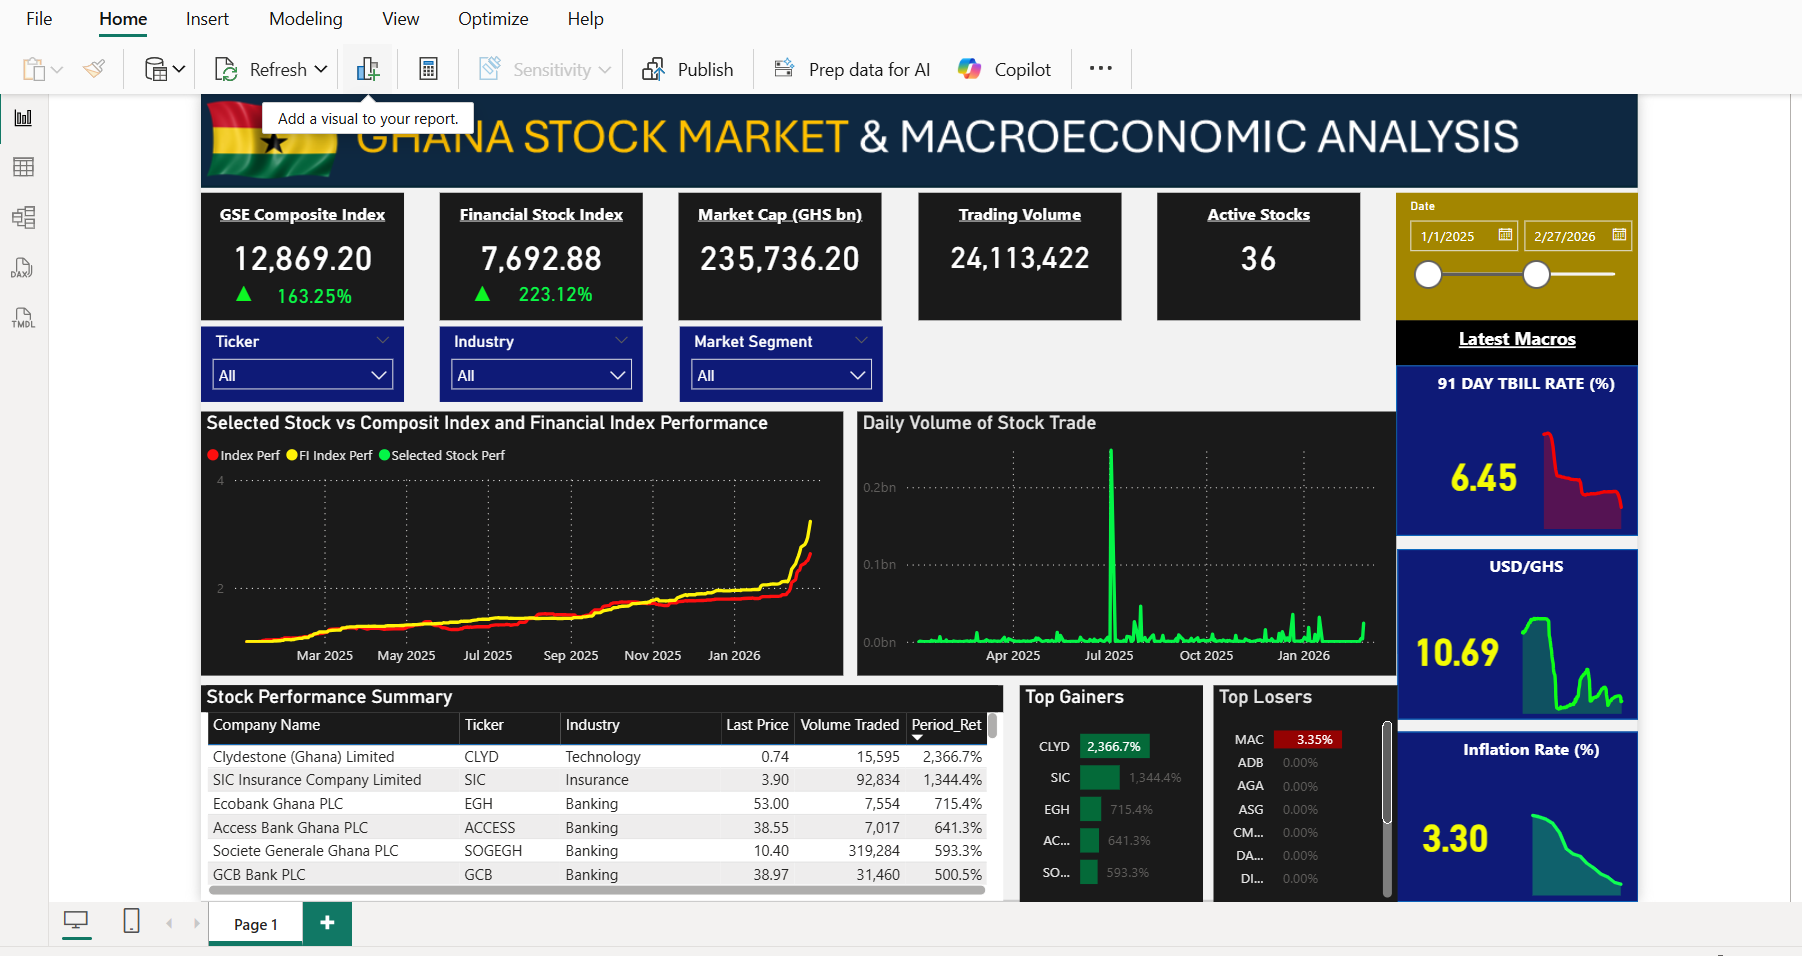

Layout of this report page (visuals, bound fields, positions):
{"tool":"powerbi","page":{"name":"Page 1","canvas":[1280,720],"ordinal":0},"visuals":[{"type":"card","fields":{"Values":["00Measures.Latest GSE CI"]},"box":[0,88.1,181,113.4],"z":0,"group":"g1"},{"type":"card","fields":{"Values":["00Measures.Latest FI"]},"box":[212.8,88.1,181,113.4],"z":0,"group":"g2"},{"type":"card","fields":{"Values":["00Measures.Market Cap"]},"box":[425.6,88.1,181,113.4],"z":0,"group":"g4"},{"type":"card","fields":{"Values":["00measures.Trading Volume"]},"box":[638.4,88.1,181,113.4],"z":0,"group":"g3"},{"type":"card","fields":{"Values":["00measures.Active stocks"]},"box":[851.3,88.1,181,113.4],"z":0,"group":"g5"},{"type":"shape","box":[1064.1,241.3,216,152],"z":0},{"type":"slicer","fields":{"Values":["DateTable.Date"]},"box":[1064,88.1,216,113.4],"z":1000},{"type":"card","fields":{"Values":["00Measures.FI-Return"]},"box":[258.9,161.6,115.8,35],"z":1000,"group":"g2"},{"type":"card","fields":{"Values":["00Measures.GSE CI Return (Selected Period)"]},"box":[51.9,164.3,97.7,32.6],"z":1000,"group":"g1"},{"type":"group","id":"g1","title":"Group 1","box":[0,88.1,181,113.4],"z":2000},{"type":"group","id":"g2","title":"Group 1","box":[212.8,88.1,181,113.4],"z":3000},{"type":"textbox","box":[0,88.5,181,41],"z":3000,"group":"g1"},{"type":"textbox","box":[212.8,88.5,181,41],"z":3000,"group":"g2"},{"type":"textbox","box":[425.6,88.5,181,41],"z":3000,"group":"g4"},{"type":"textbox","box":[638.4,88.5,181,41],"z":3000,"group":"g3"},{"type":"textbox","box":[851.3,88.5,181,41],"z":3000,"group":"g5"},{"type":"group","id":"g3","title":"Group 1","box":[638.4,88.1,181,113.4],"z":4000},{"type":"card","fields":{"Values":["00Measures.GSE CI Arrow"]},"box":[9.7,161.9,56.7,35],"z":4000,"group":"g1"},{"type":"card","fields":{"Values":["00Measures.FI Arrow"]},"box":[222.5,161.9,56.7,35],"z":4000,"group":"g2"},{"type":"group","id":"g4","title":"Group 1","box":[425.6,88.1,181,113.4],"z":5000},{"type":"group","id":"g5","title":"Group 1","box":[851.3,88.1,181,113.4],"z":6000},{"type":"textbox","box":[1064.1,201.5,216,39.8],"z":7000},{"type":"areaChart","fields":{"Category":["DateTable.Date"],"Y":["Max(Tbill.Interest Rate)"]},"box":[1181.1,283.5,98.9,109.8],"z":8000},{"type":"shape","box":[1065.3,405.4,214.7,152],"z":9000},{"type":"shape","box":[1064.1,568.2,216,152],"z":10000},{"type":"areaChart","fields":{"Category":["DateTable.Date"],"Y":["Max(FX.Mid Rate)"]},"box":[1161.8,446.4,118.2,111],"z":11000},{"type":"areaChart","fields":{"Category":["DateTable.Date"],"Y":["Sum(Inflation.Year-on-Year Inflation Rate (%))"]},"box":[1171.5,609.3,108.6,111],"z":12000},{"type":"textbox","box":[1081,241.3,199.1,41],"z":13000},{"type":"card","fields":{"Values":["00measures.Inflation"]},"box":[1089.4,294.4,106.2,89.3],"z":14000},{"type":"card","fields":{"Values":["00measures.USD/GHS"]},"box":[1065.3,450,106.2,89.3],"z":15000},{"type":"textbox","box":[1081,405.4,199.1,41],"z":16000},{"type":"textbox","box":[1089.4,568.2,190.6,41],"z":17000},{"type":"card","fields":{"Values":["00measures.Inflation"]},"box":[1064.1,615.3,106.2,89.3],"z":18000},{"type":"lineChart","title":"Selected Stock vs Composit Index and Financial Index Performance","fields":{"Category":["DateTable.Date"],"Y":["00measures.Index Value","00measures.FI Index Perf","00measures.Selected Stock Perf"]},"box":[0,282.3,571.9,235.3],"z":19000},{"type":"slicer","fields":{"Values":["Company Details.Ticker"]},"box":[0,207.5,181,67.6],"z":20000},{"type":"slicer","fields":{"Values":["Company Details.Industry"]},"box":[212.3,207.5,181,67.6],"z":21000},{"type":"slicer","fields":{"Values":["Company Details.Market Segment"]},"box":[425.9,207.5,181,67.6],"z":22000},{"type":"tableEx","title":"Stock Performance Summary","fields":{"Values":["Company Details.Company Name","Company Details.Ticker","Company Details.Industry","00measures.Last Price","00measures.Volume Traded","00measures.Period_Return"]},"box":[0,526,714.2,191.8],"z":23000},{"type":"barChart","title":"Top Gainers","fields":{"Category":["Company Details.Ticker"],"Y":["00measures.Period_Ret"]},"box":[728.7,526,162.9,194.2],"z":24000},{"type":"barChart","title":"Top Losers","fields":{"Category":["Company Details.Ticker"],"Y":["00measures.Period_Return_Neg"]},"box":[901.2,526,164.1,194.2],"z":25000},{"type":"lineChart","title":"Daily Volume of Stock Trade","fields":{"Y":["00measures.Total Volume"],"Category":["DateTable.Date"]},"box":[583.9,282.3,480.2,235.3],"z":26000}]}

Visuals, with their boxes on the page's 1280x720 design canvas (x1, y1, x2, y2). These are canvas units, not pixel positions in the 1802x956 screenshot, which may show the page scaled, cropped or inside an application window:
card - 00Measures.Latest GSE CI: 0,88,181,202
card - 00Measures.Latest FI: 213,88,394,202
card - 00Measures.Market Cap: 426,88,607,202
card - 00measures.Trading Volume: 638,88,819,202
card - 00measures.Active stocks: 851,88,1032,202
shape: 1064,241,1280,393
slicer - DateTable.Date: 1064,88,1280,202
card - 00Measures.FI-Return: 259,162,375,197
card - 00Measures.GSE CI Return (Selected Period): 52,164,150,197
"Group 1" group: 0,88,181,202
"Group 1" group: 213,88,394,202
textbox: 0,88,181,130
textbox: 213,88,394,130
textbox: 426,88,607,130
textbox: 638,88,819,130
textbox: 851,88,1032,130
"Group 1" group: 638,88,819,202
card - 00Measures.GSE CI Arrow: 10,162,66,197
card - 00Measures.FI Arrow: 222,162,279,197
"Group 1" group: 426,88,607,202
"Group 1" group: 851,88,1032,202
textbox: 1064,202,1280,241
areaChart - DateTable.Date x Max(Tbill.Interest Rate): 1181,284,1280,393
shape: 1065,405,1280,557
shape: 1064,568,1280,720
areaChart - DateTable.Date x Max(FX.Mid Rate): 1162,446,1280,557
areaChart - DateTable.Date x Sum(Inflation.Year-on-Year Inflation Rate (%)): 1172,609,1280,720
textbox: 1081,241,1280,282
card - 00measures.Inflation: 1089,294,1196,384
card - 00measures.USD/GHS: 1065,450,1172,539
textbox: 1081,405,1280,446
textbox: 1089,568,1280,609
card - 00measures.Inflation: 1064,615,1170,705
"Selected Stock vs Composit Index and Financial Index Performance" lineChart: 0,282,572,518
slicer - Company Details.Ticker: 0,208,181,275
slicer - Company Details.Industry: 212,208,393,275
slicer - Company Details.Market Segment: 426,208,607,275
"Stock Performance Summary" tableEx: 0,526,714,718
"Top Gainers" barChart: 729,526,892,720
"Top Losers" barChart: 901,526,1065,720
"Daily Volume of Stock Trade" lineChart: 584,282,1064,518
